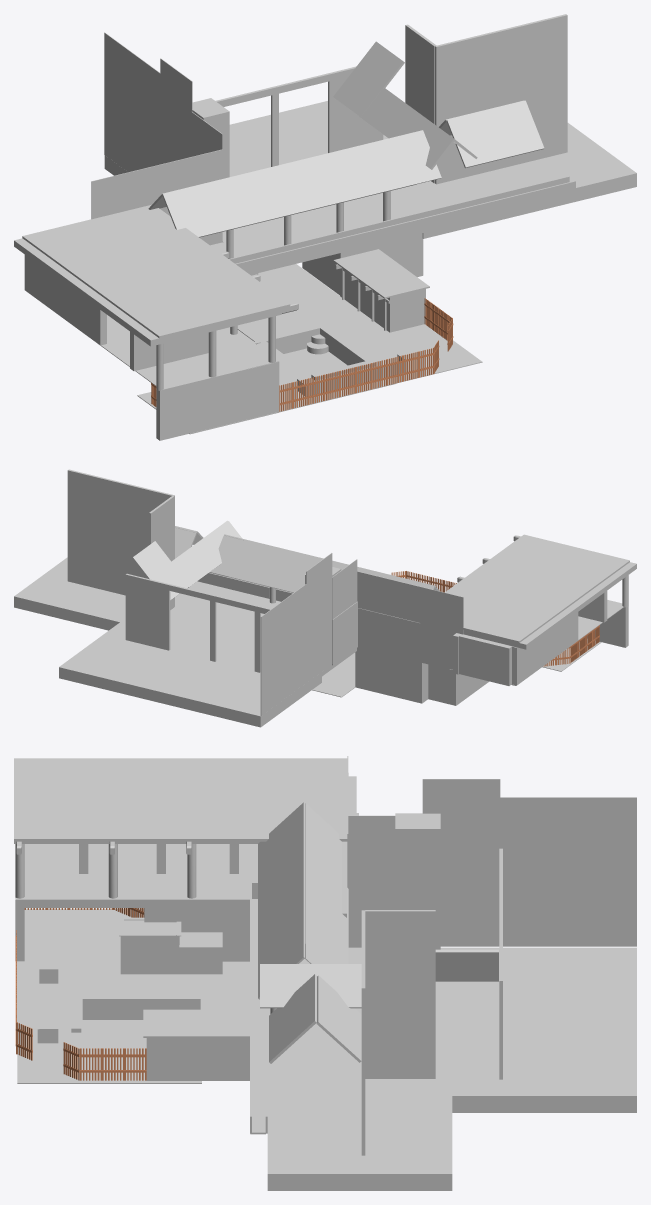
Rendered from cornerMarket.model.fbx.
The picture shows the model from 3 angles, top to bottom: view 1: azimuth 30°, elevation 25°; view 2: azimuth 150°, elevation 25°; view 3: azimuth 270°, elevation 25°; orthographic projection. The views are drawn at different scales.
Visible parts, largest first — view 1: block_default_64, block_default_11 (×2), block_default_28, block_default_33, block_default_39, block_default_16, block_default_36 (×2), block_default_26 (×2), block_default_23, block_default_6 (×3), block_default_5 (×3), block_default_41 (+30 smaller); view 2: block_default_64, block_default_16 (×2), block_default_28, block_default_33, block_default_21, block_default_39, block_default_23, block_default_62, block_default_20, block_default_53, block_default_17, block_default_59 (+27 smaller); view 3: block_default_39, block_default_16 (×2), block_default_62, block_default_28, block_default_63, block_default_33, block_default_59, block_default_8 (×2), block_default_0 (×2), block_default_21, block_default_20, block_default_26 (×2) (+27 smaller).
Boxes of the visible parts, x1,y1,x2,y2 form: block_default_64: [435, 14, 567, 184]; block_default_11 (×2): [156, 174, 279, 440]; block_default_28: [98, 259, 290, 338]; block_default_33: [37, 215, 228, 293]; block_default_39: [104, 32, 160, 172]; block_default_16: [468, 123, 636, 218]; block_default_36 (×2): [307, 100, 544, 245]; block_default_26 (×2): [238, 155, 338, 384]; block_default_23: [91, 149, 222, 219]; block_default_6 (×3): [284, 233, 482, 374]; block_default_5 (×3): [14, 238, 425, 353]; block_default_41: [320, 136, 416, 203]; block_default_64: [67, 469, 174, 606]; block_default_16 (×2): [14, 557, 455, 669]; block_default_28: [475, 534, 629, 597]; block_default_33: [445, 570, 580, 633]; block_default_21: [125, 638, 252, 710]; block_default_39: [260, 584, 306, 715]; block_default_23: [357, 571, 463, 634]; block_default_62: [59, 622, 186, 694]; block_default_20: [192, 655, 321, 727]; block_default_53: [125, 573, 170, 650]; block_default_17: [355, 647, 428, 703]; block_default_59: [306, 553, 332, 682]; block_default_39: [500, 797, 636, 946]; block_default_16 (×2): [252, 976, 452, 1190]; block_default_62: [452, 1047, 636, 1112]; block_default_28: [14, 761, 162, 841]; block_default_63: [365, 910, 435, 1078]; block_default_33: [162, 761, 310, 841]; block_default_59: [422, 779, 500, 946]; block_default_8 (×2): [17, 844, 199, 1031]; block_default_0 (×2): [143, 879, 257, 1037]; block_default_21: [452, 997, 636, 1046]; block_default_20: [452, 947, 636, 997]; block_default_26 (×2): [82, 849, 305, 999].
Size of the model in its own units: 900 by 301 by 674.
